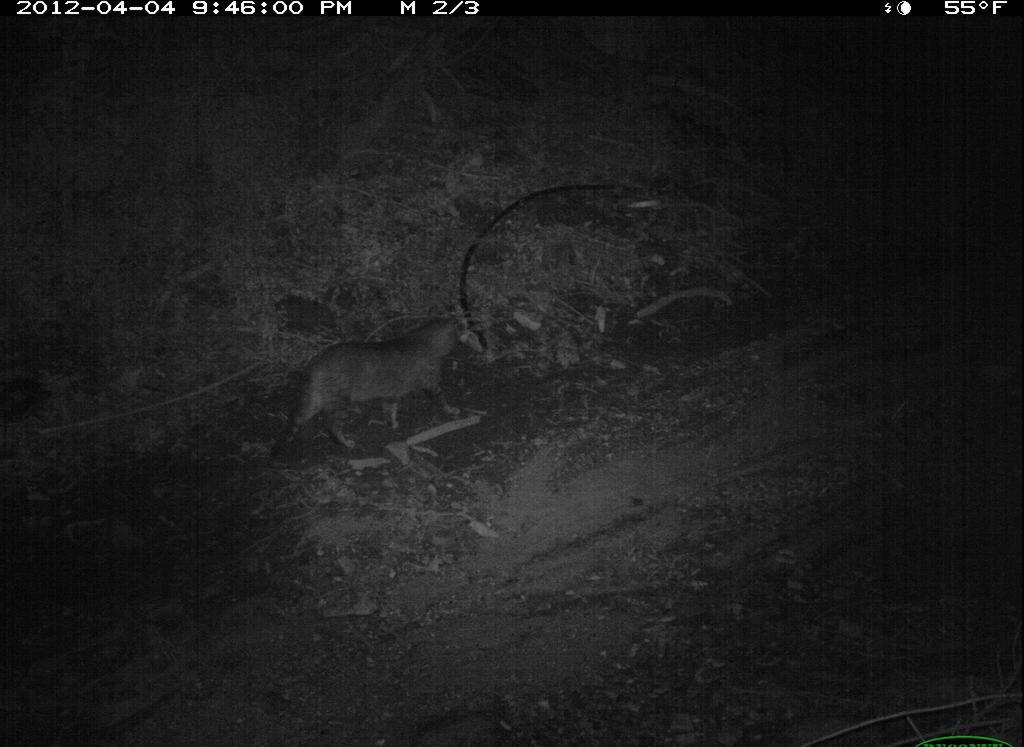cat: (263, 309, 469, 469)
